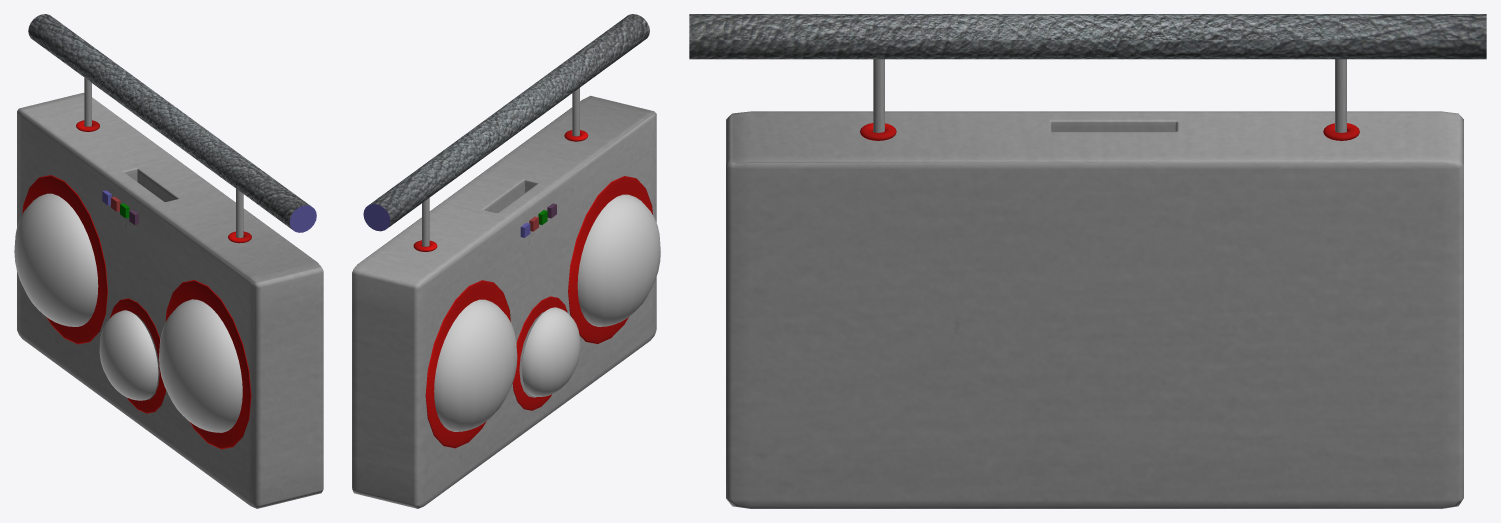
The model's file is BOCINA TEXTURIZADA.fbx.
3 renders of one model, left to right at view 1: azimuth 30°, elevation 25°; view 2: azimuth 150°, elevation 25°; view 3: azimuth 270°, elevation 25°, orthographic. The views are drawn at different scales.
Visible parts, largest first — view 1: polySurface12; view 2: polySurface12; view 3: polySurface12.
Part boxes in pixels (box(x1,y1,x2,y2)): polySurface12: box(14, 14, 323, 508); polySurface12: box(352, 14, 660, 508); polySurface12: box(689, 14, 1486, 508).
Size of the model in its own units: 0.5585 by 1.55 by 2.39.
